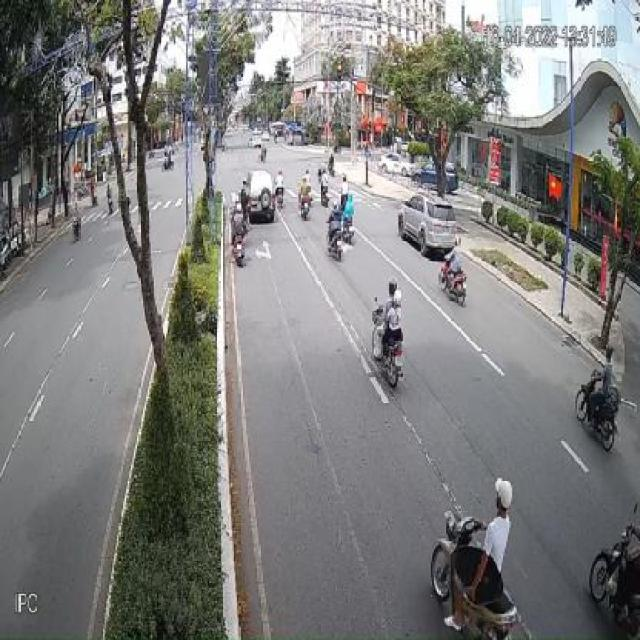car: (396, 187, 458, 261), (237, 170, 276, 223)
motorbike: (432, 479, 524, 636), (590, 499, 640, 632), (574, 360, 619, 454), (369, 284, 405, 398), (439, 248, 469, 308), (230, 215, 249, 268), (326, 207, 342, 261), (341, 192, 356, 246), (297, 178, 312, 220), (318, 170, 331, 206), (274, 172, 284, 213), (72, 213, 82, 246)
